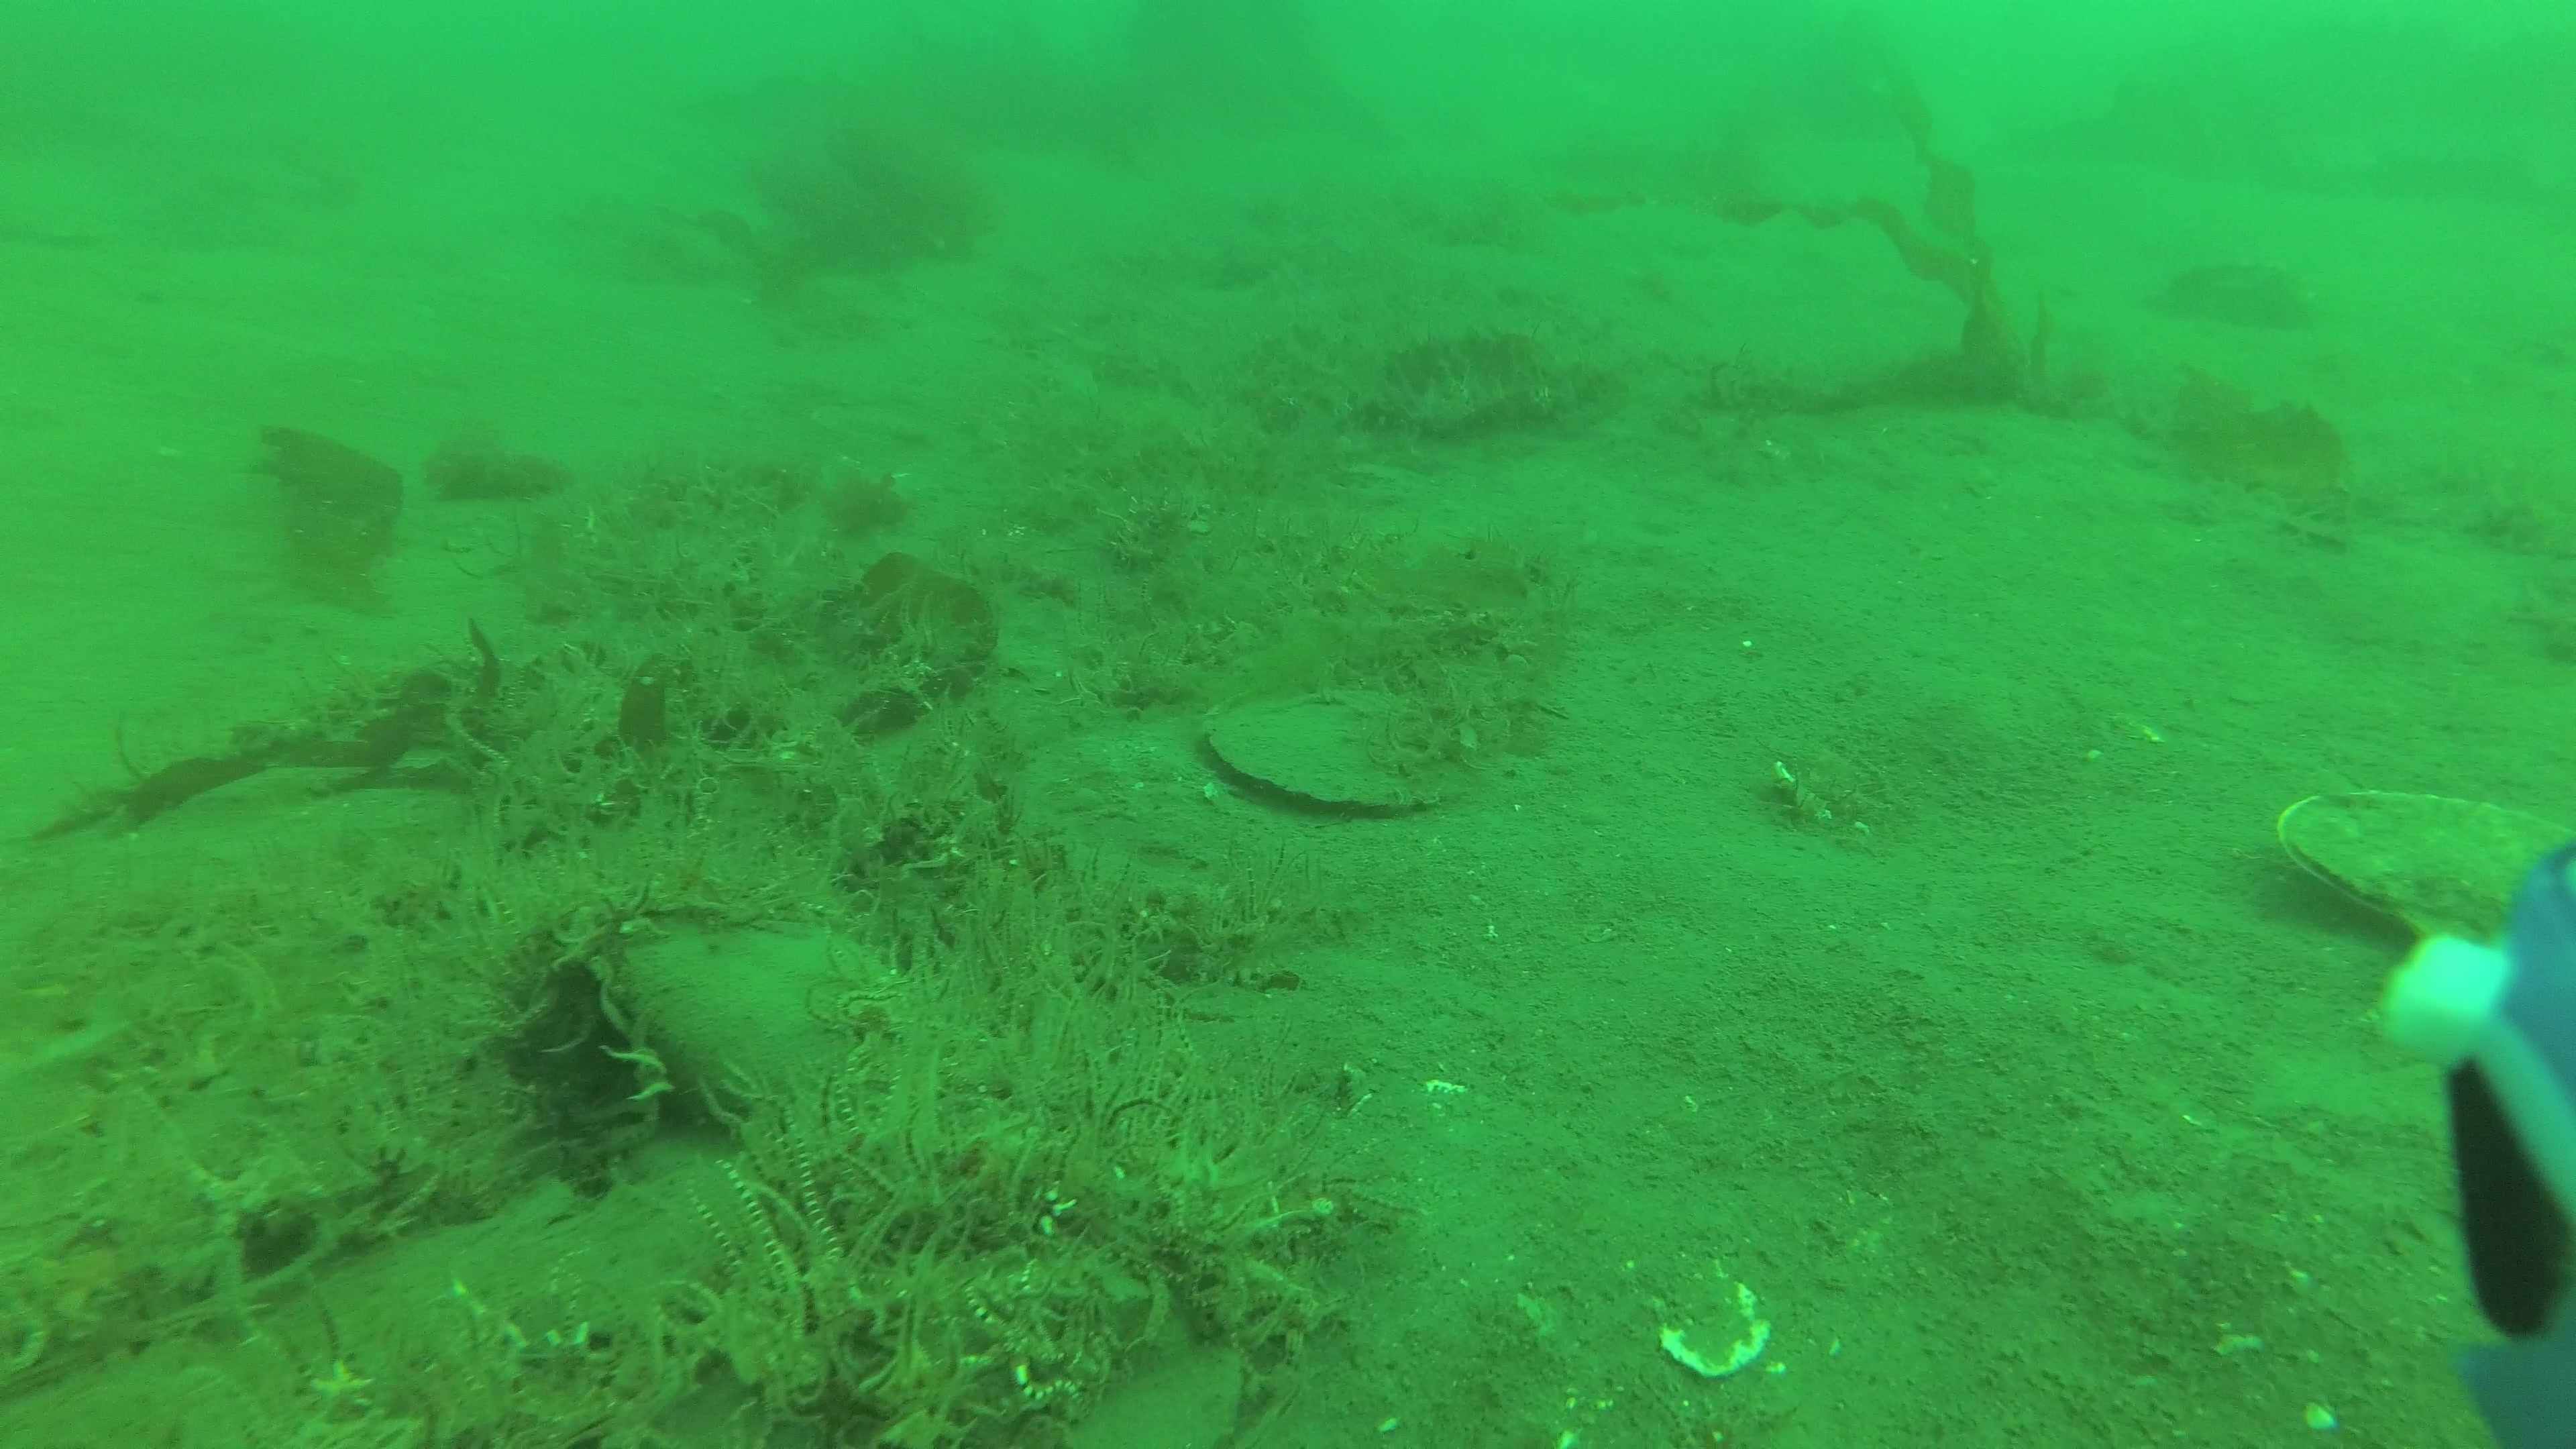scallop: (2273, 780, 2576, 950), (1205, 694, 1435, 810)
